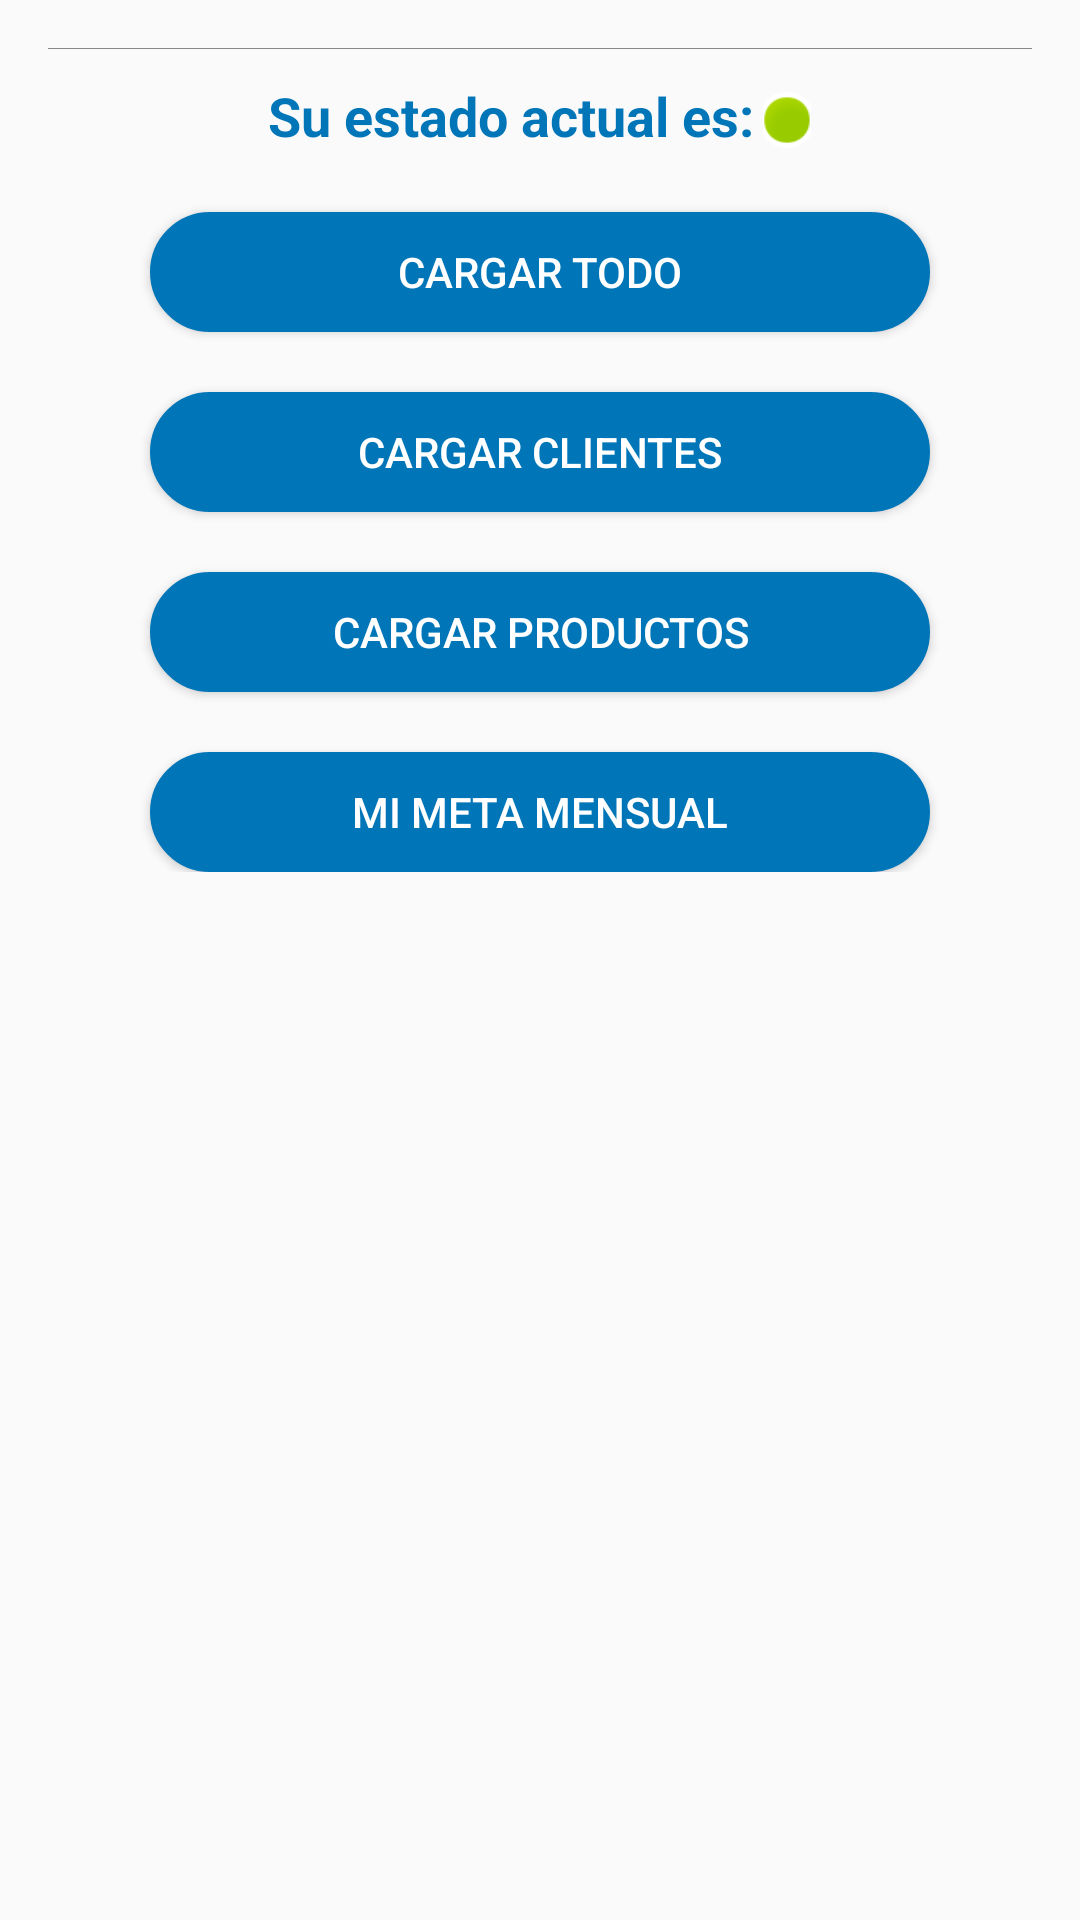

Locate icon controls on the screen. Image size 1080x1920, boxes as (x1, y1, x2, y2).
presence online: (764, 97, 810, 143)
